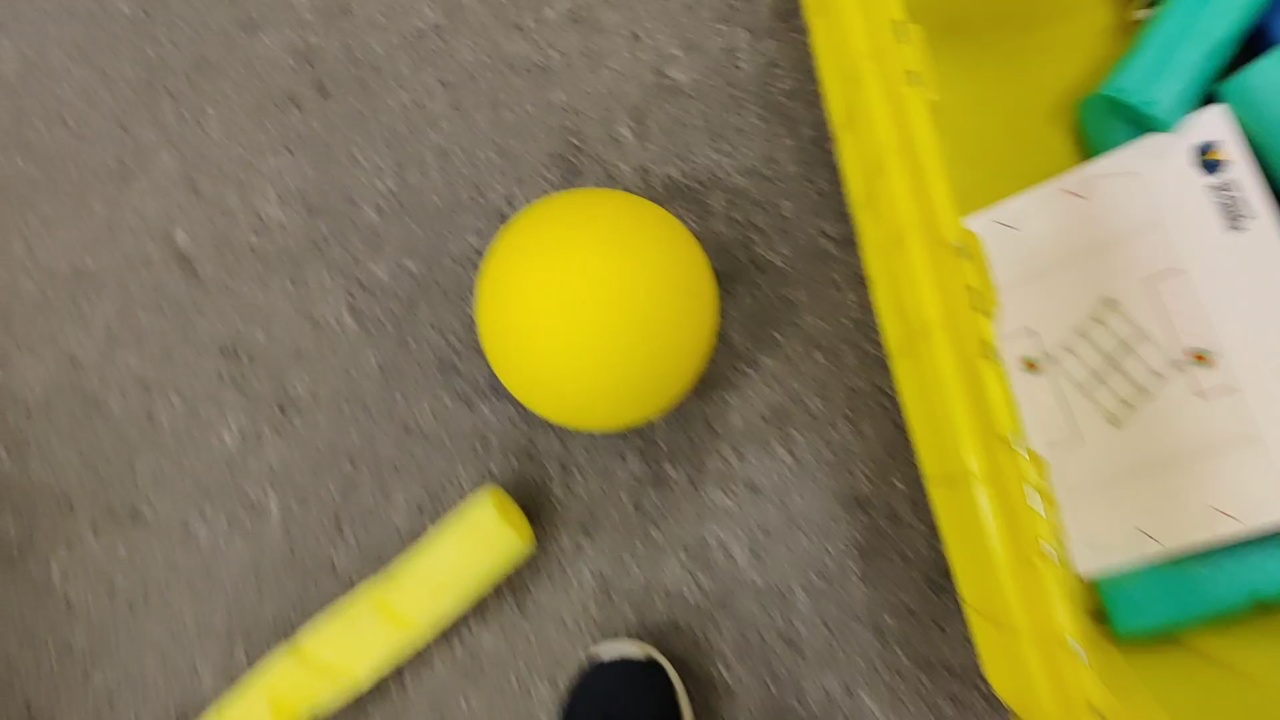Ball: (476, 185, 725, 431)
